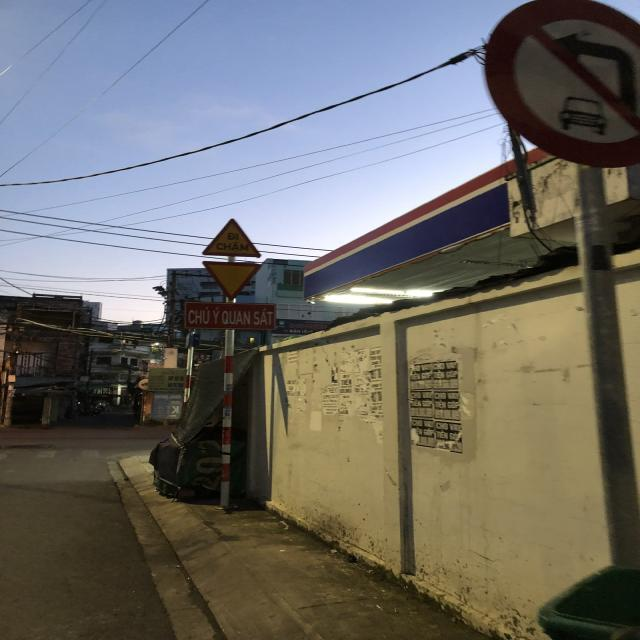Bien bao di cham: (199, 213, 265, 259)
Bien bao giao nhau voi duong uu tien: (191, 258, 275, 302)
